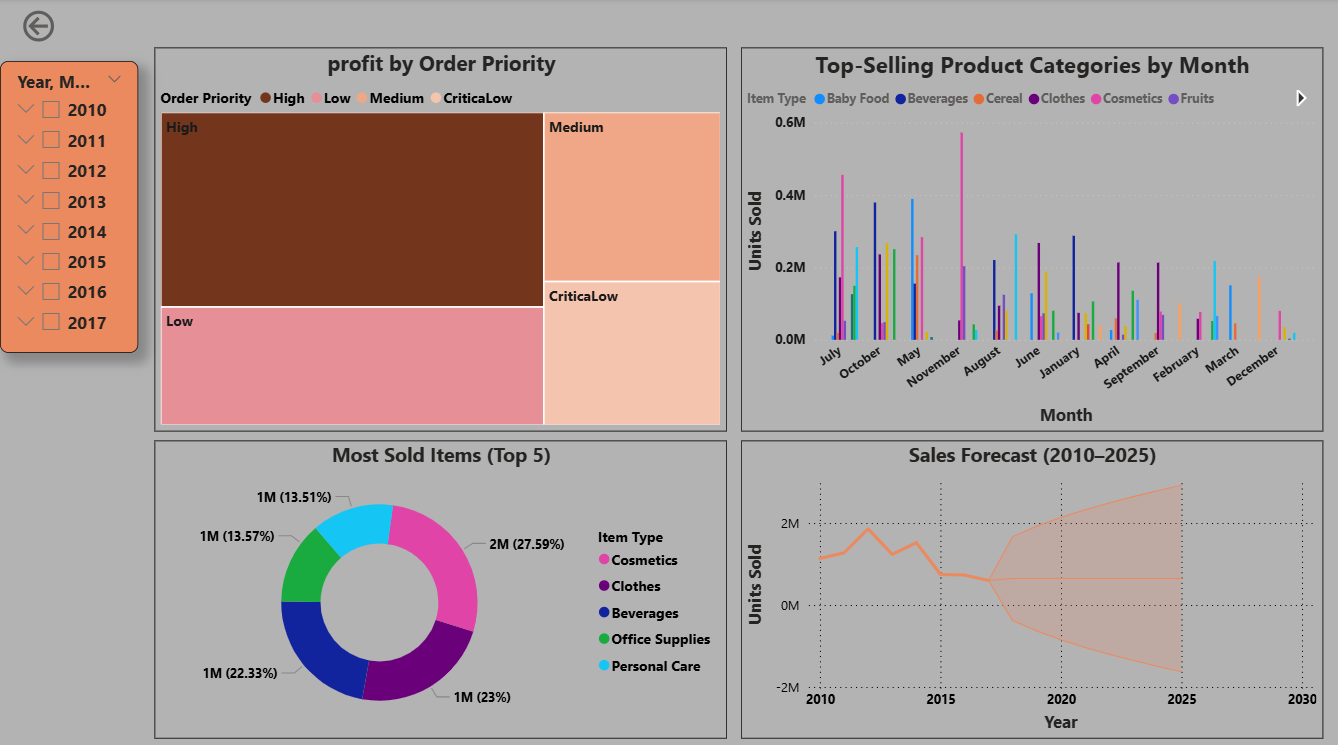

Layout of this report page (visuals, bound fields, positions):
{"tool":"powerbi","page":{"name":"Page 2","canvas":[1280,720],"ordinal":1},"visuals":[{"type":"actionButton","box":[16.7,7.6,99.9,39.4],"z":0},{"type":"treemap","title":"profit by Order Priority","fields":{"Group":["Amazon_final_data.Order Priority"],"Values":["Sum(Amazon_final_data.profit)"]},"box":[146.9,46.9,546.6,366.4],"z":1000},{"type":"clusteredColumnChart","title":"Top-Selling Product Categories by Month","fields":{"Category":["Amazon_final_data.Month"],"Y":["Sum(Amazon_final_data.Units Sold)"],"Series":["Amazon_final_data.Item Type"]},"box":[707.1,46.9,555.7,366.4],"z":2000},{"type":"donutChart","title":"Most Sold Items (Top 5)","fields":{"Category":["Amazon_final_data.Item Type"],"Y":["Sum(Amazon_final_data.Units Sold)"]},"box":[146.9,422.5,546.6,284.7],"z":3000},{"type":"lineChart","title":"Sales Forecast (2010–2025)","fields":{"Y":["Sum(Amazon_final_data.Units Sold)"],"Category":["Amazon_final_data.Year"]},"box":[707.1,422.5,555.7,284.7],"z":4000},{"type":"slicer","fields":{"Values":["Amazon_final_data.Year","Amazon_final_data.Month"]},"box":[0,60.6,131.7,278.6],"z":5000}]}

Visuals, with their boxes in screenshot pixels (x1, y1, x2, y2):
actionButton: <region>7, 1, 113, 43</region>
"profit by Order Priority" treemap: <region>145, 43, 724, 431</region>
"Top-Selling Product Categories by Month" clusteredColumnChart: <region>738, 43, 1327, 431</region>
"Most Sold Items (Top 5)" donutChart: <region>145, 440, 724, 742</region>
"Sales Forecast (2010–2025)" lineChart: <region>738, 440, 1327, 742</region>
slicer - Amazon_final_data.Year x Amazon_final_data.Month: <region>0, 57, 129, 352</region>
